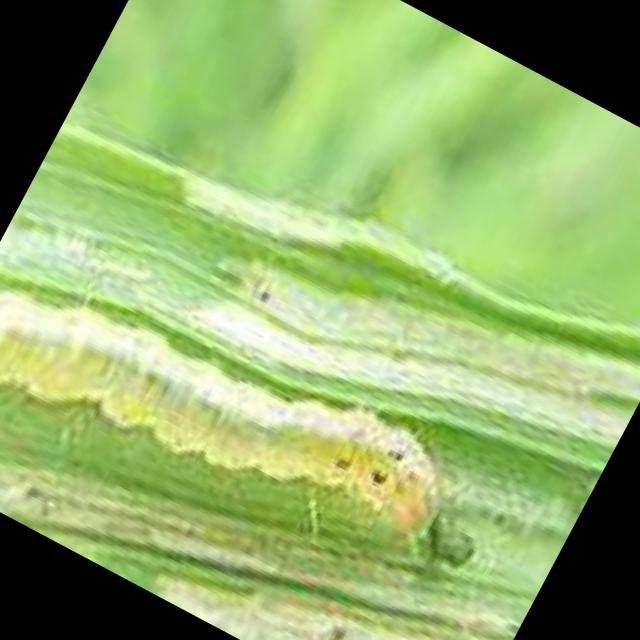leaf-folder: (0, 224, 513, 608)
